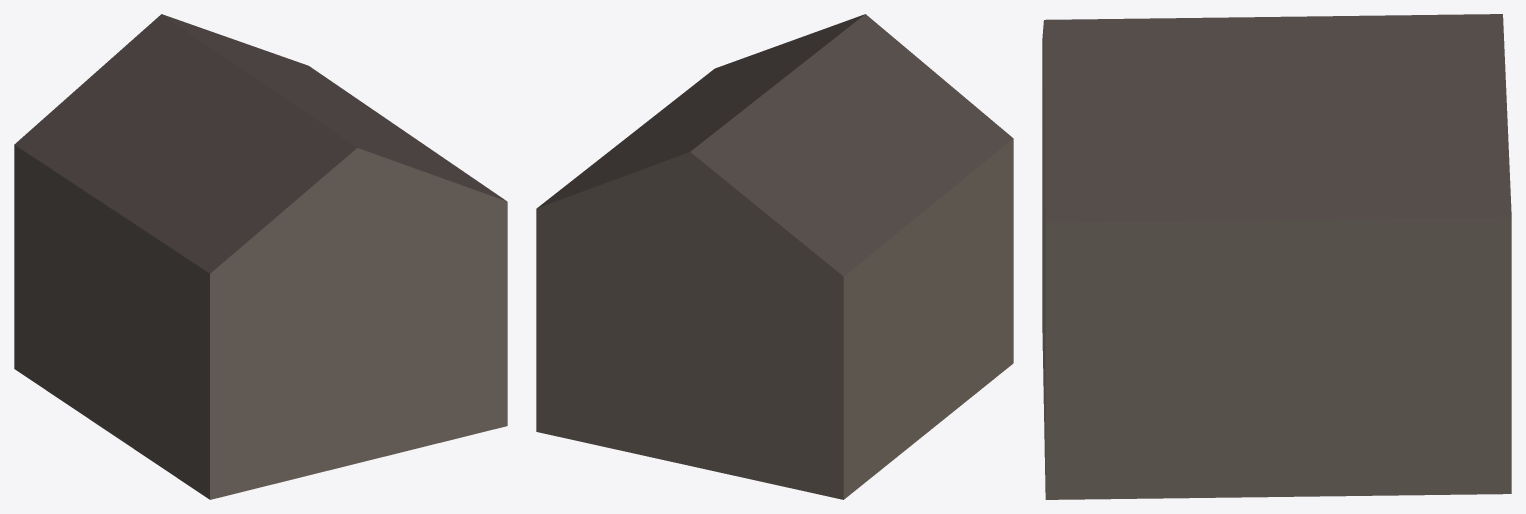
3 views of the same model, side by side, from view 1: azimuth 30°, elevation 25°; view 2: azimuth 150°, elevation 25°; view 3: azimuth 270°, elevation 25° (orthographic). The views are drawn at different scales.
Visible parts, largest first — view 1: HP-w1515071123; view 2: HP-w1515071123; view 3: HP-w1515071123.
Boxes of the visible parts, <box> form: HP-w1515071123: <box>14,14,507,499</box>; HP-w1515071123: <box>536,14,1013,499</box>; HP-w1515071123: <box>1042,14,1511,499</box>.
Bounding box in the file's own units: 8.72 × 8.44 × 9.22.
